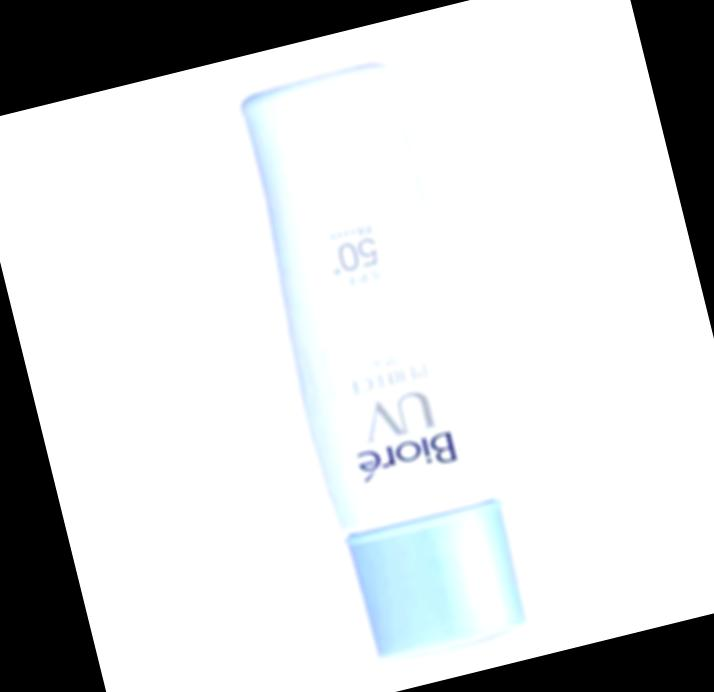cosmetic: (217, 56, 545, 670)
